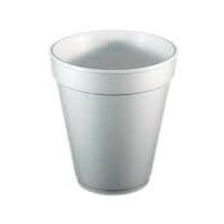paper_cup: (45, 23, 181, 200)
